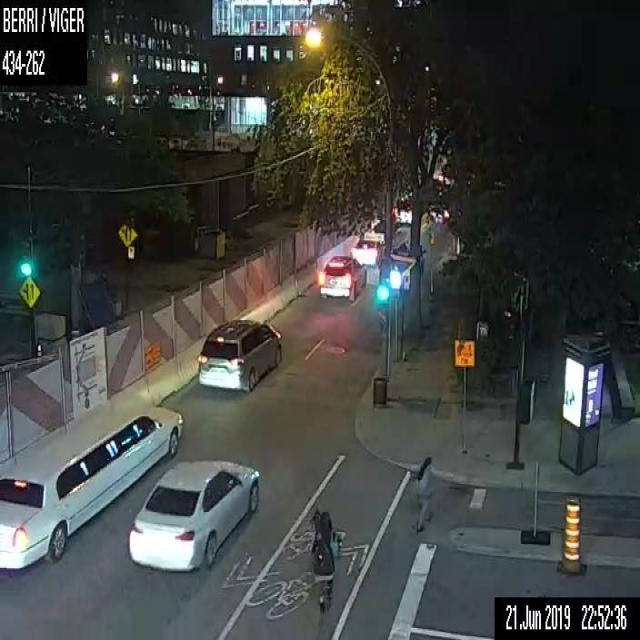construction: (0, 131, 414, 462), (556, 494, 586, 574), (36, 342, 42, 357)
pedestrian: (309, 508, 340, 616), (412, 456, 432, 533)
vehicle: (0, 400, 183, 571), (127, 457, 261, 572), (197, 316, 284, 391), (318, 254, 366, 298), (350, 238, 383, 270)
